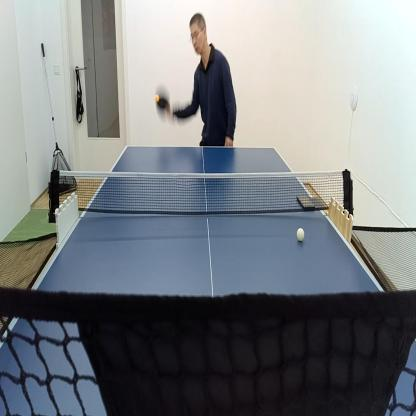Ball: (154, 92, 161, 104)
